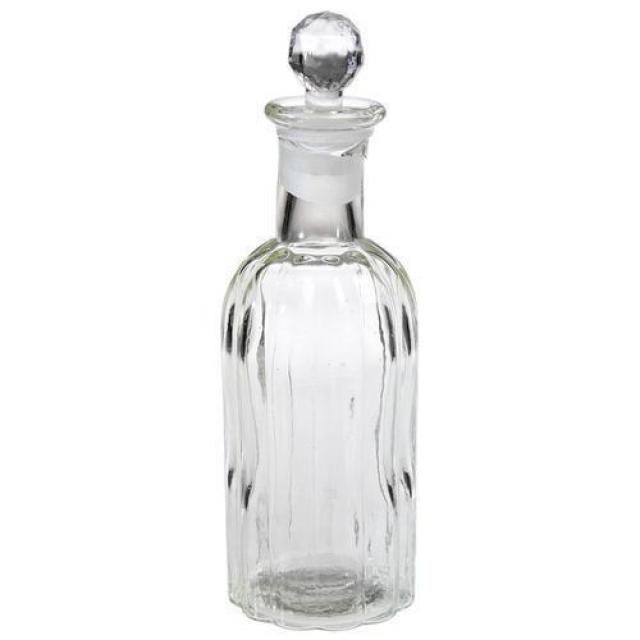non-organic waste: (202, 0, 428, 640)
